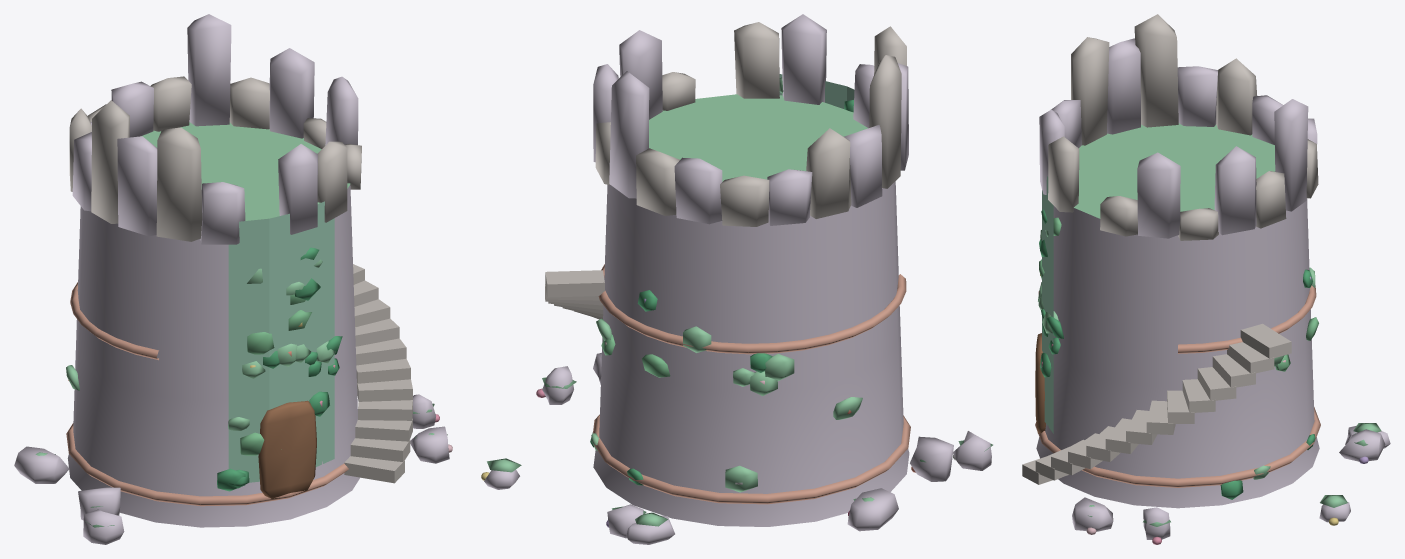
File: watchtower_ruined.gltf
3 views of the same model, side by side, from view 1: azimuth 30°, elevation 25°; view 2: azimuth 150°, elevation 25°; view 3: azimuth 270°, elevation 25° (orthographic). The views are drawn at different scales.
Visible parts, largest first — view 1: watchtower_ruined, watchtower_ruined_climb; view 2: watchtower_ruined, watchtower_ruined_climb; view 3: watchtower_ruined, watchtower_ruined_climb.
Boxes of the visible parts, x1,y1,x2,y2 form: watchtower_ruined: [14, 14, 452, 544]; watchtower_ruined_climb: [228, 201, 334, 482]; watchtower_ruined: [481, 14, 992, 544]; watchtower_ruined_climb: [779, 74, 854, 108]; watchtower_ruined: [1022, 14, 1390, 544]; watchtower_ruined_climb: [1042, 176, 1053, 433].
Size of what is drawn, in the model's own units: 9.92 by 9.79 by 8.58.
